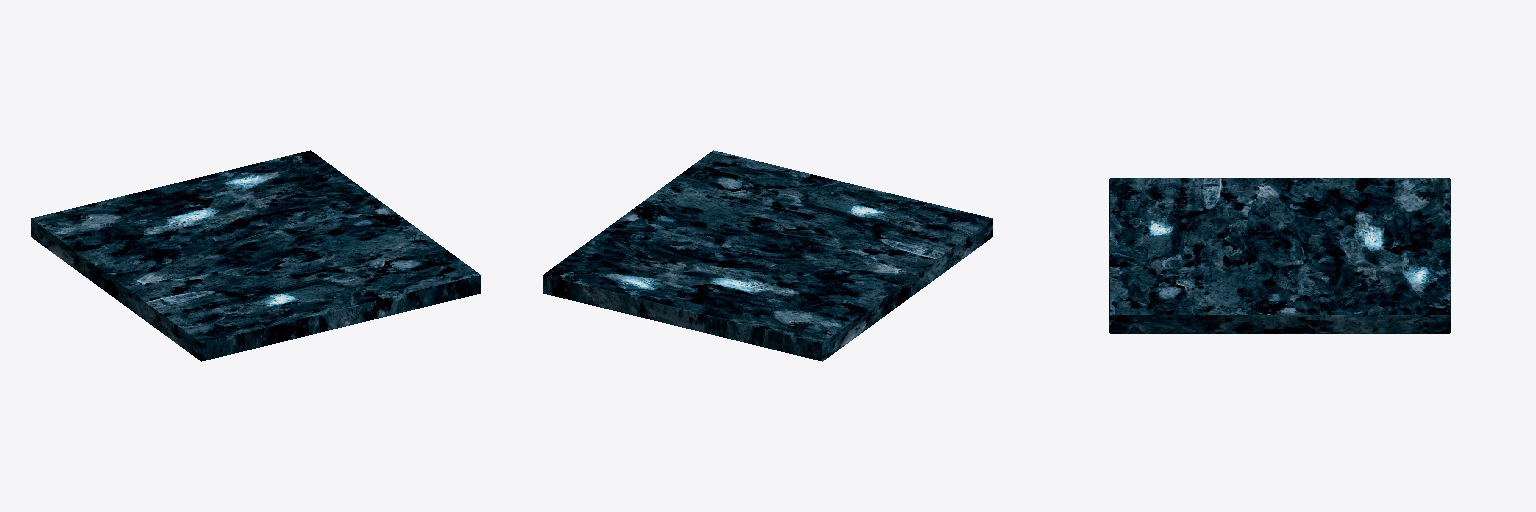
3 renders of one model, left to right at view 1: azimuth 30°, elevation 25°; view 2: azimuth 150°, elevation 25°; view 3: azimuth 270°, elevation 25°, orthographic.
Visible parts, largest first — view 1: model_model.002_model_model.002_Material.005; view 2: model_model.002_model_model.002_Material.005; view 3: model_model.002_model_model.002_Material.005.
Boxes of the visible parts, <box> form: model_model.002_model_model.002_Material.005: <box>31,150,480,361</box>; model_model.002_model_model.002_Material.005: <box>543,150,992,361</box>; model_model.002_model_model.002_Material.005: <box>1109,178,1450,333</box>.
Size of the model in its own units: 0.6 by 0.038 by 0.635.
Materials: 1 (1 with a texture image).